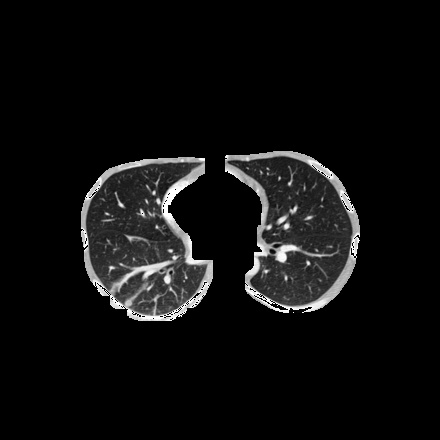PN: (123, 298, 131, 306)
